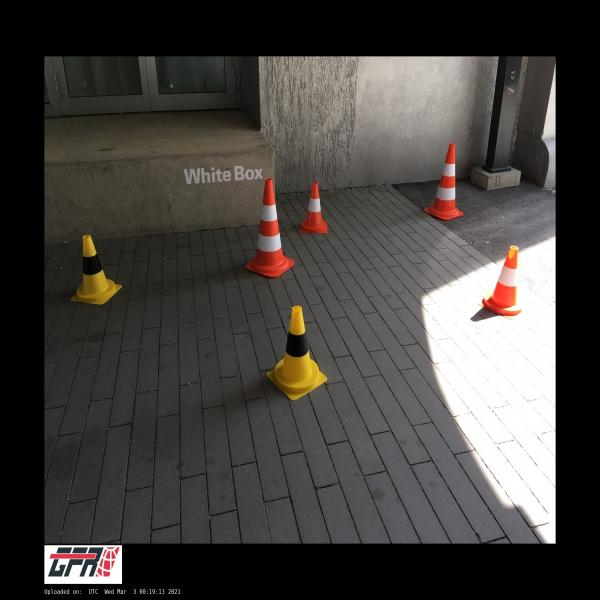large_orange_cone: (246, 178, 294, 278), (424, 143, 463, 220)
orange_cone: (478, 245, 522, 320), (300, 183, 327, 233)
yellow_cone: (267, 306, 327, 400), (71, 234, 122, 305)
